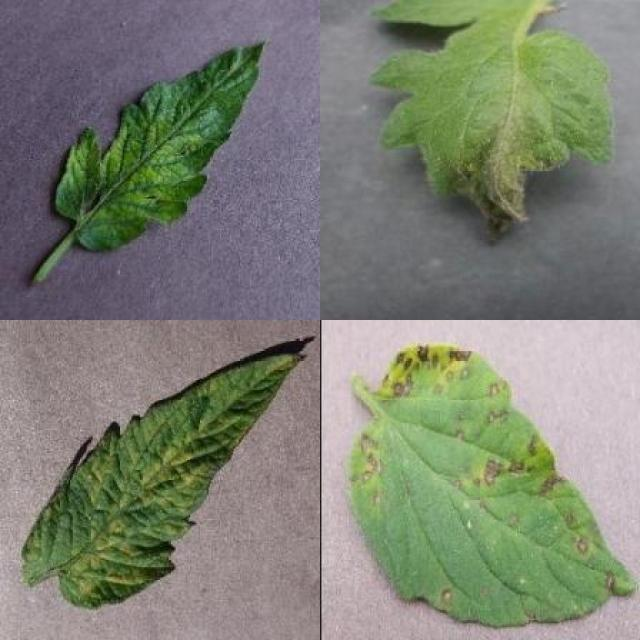Late Blight: (367, 0, 614, 247)
Leaf Mold: (23, 352, 306, 608)
Mosaic Virus: (56, 37, 266, 254)
Septoria: (345, 344, 635, 630)
